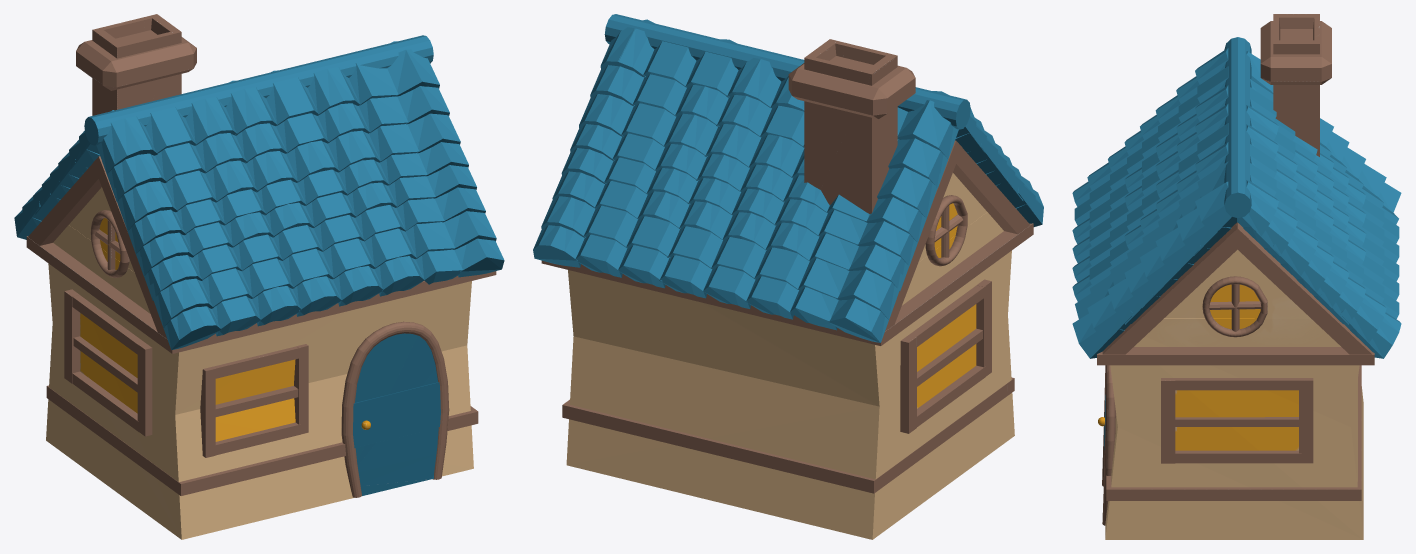
The model's file is BlueCW_House.obj.
3 renders of one model, left to right at view 1: azimuth 30°, elevation 25°; view 2: azimuth 150°, elevation 25°; view 3: azimuth 270°, elevation 25°, orthographic. The views are drawn at different scales.
Parts seen in each view (by area): view 1: ROOF1_lambert5SG, house_body1_blinn2SG, FRAMES1_standardSurface6SG, door2_phongE1SG, chimney_phong3SG, WINDOWSCIRCLE_standardSurface5SG; view 2: ROOF1_lambert5SG, house_body1_blinn2SG, FRAMES1_standardSurface6SG, chimney_phong3SG, WINDOWSCIRCLE_standardSurface5SG; view 3: ROOF1_lambert5SG, house_body1_blinn2SG, FRAMES1_standardSurface6SG, chimney_phong3SG, WINDOWSCIRCLE_standardSurface5SG.
Part boxes in pixels (<box>): ROOF1_lambert5SG: <box>14,35,504,349</box>; house_body1_blinn2SG: <box>46,187,473,539</box>; FRAMES1_standardSurface6SG: <box>26,156,496,497</box>; door2_phongE1SG: <box>353,333,440,495</box>; chimney_phong3SG: <box>76,14,196,115</box>; WINDOWSCIRCLE_standardSurface5SG: <box>90,210,129,277</box>; ROOF1_lambert5SG: <box>533,14,1043,342</box>; house_body1_blinn2SG: <box>566,173,1014,539</box>; FRAMES1_standardSurface6SG: <box>541,140,1033,493</box>; chimney_phong3SG: <box>788,39,915,213</box>; WINDOWSCIRCLE_standardSurface5SG: <box>925,195,967,266</box>; ROOF1_lambert5SG: <box>1072,37,1401,358</box>; house_body1_blinn2SG: <box>1105,249,1363,539</box>; FRAMES1_standardSurface6SG: <box>1097,222,1374,525</box>; chimney_phong3SG: <box>1260,14,1331,156</box>; WINDOWSCIRCLE_standardSurface5SG: <box>1202,276,1267,337</box>.
Bounding box in the file's own units: 2.65 × 3.19 × 2.37.
7 materials, 7 textured.
